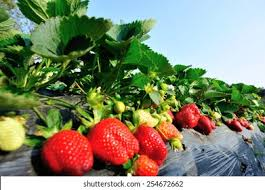ripe: (87, 114, 141, 167), (42, 126, 95, 175), (131, 122, 171, 163), (127, 153, 163, 177), (158, 117, 182, 144), (175, 104, 201, 128), (196, 111, 214, 135), (229, 118, 243, 133)
unripe: (0, 110, 24, 156), (132, 104, 161, 130), (113, 97, 127, 114)
